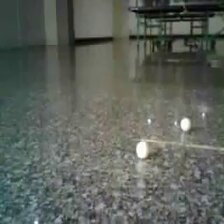w: (135, 140, 149, 159), (180, 118, 191, 132)
